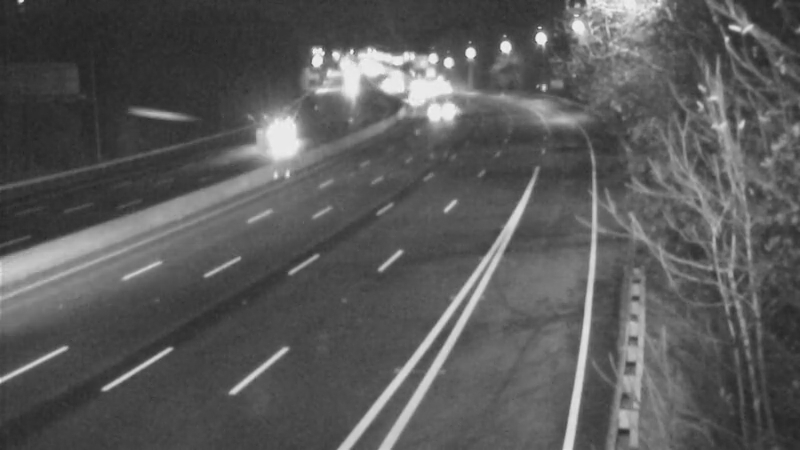vehicle: (390, 74, 440, 124), (416, 86, 466, 136), (258, 104, 308, 154)
